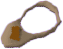amulet: (1, 1, 63, 49)
